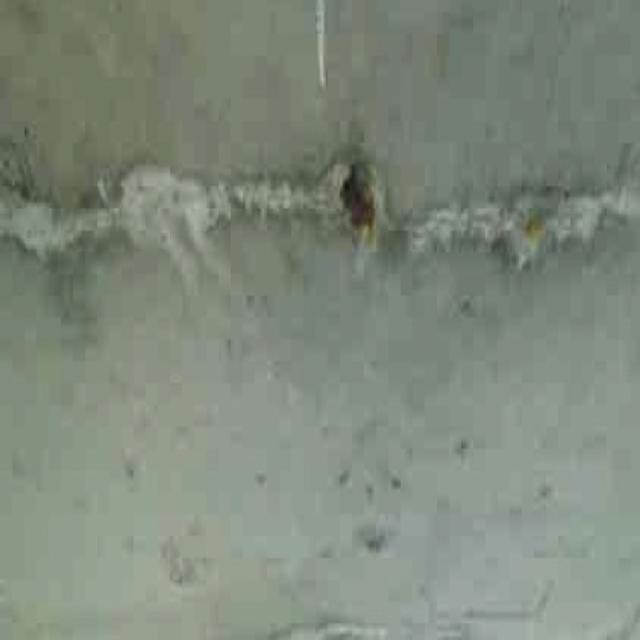freelime: (7, 129, 626, 267)
